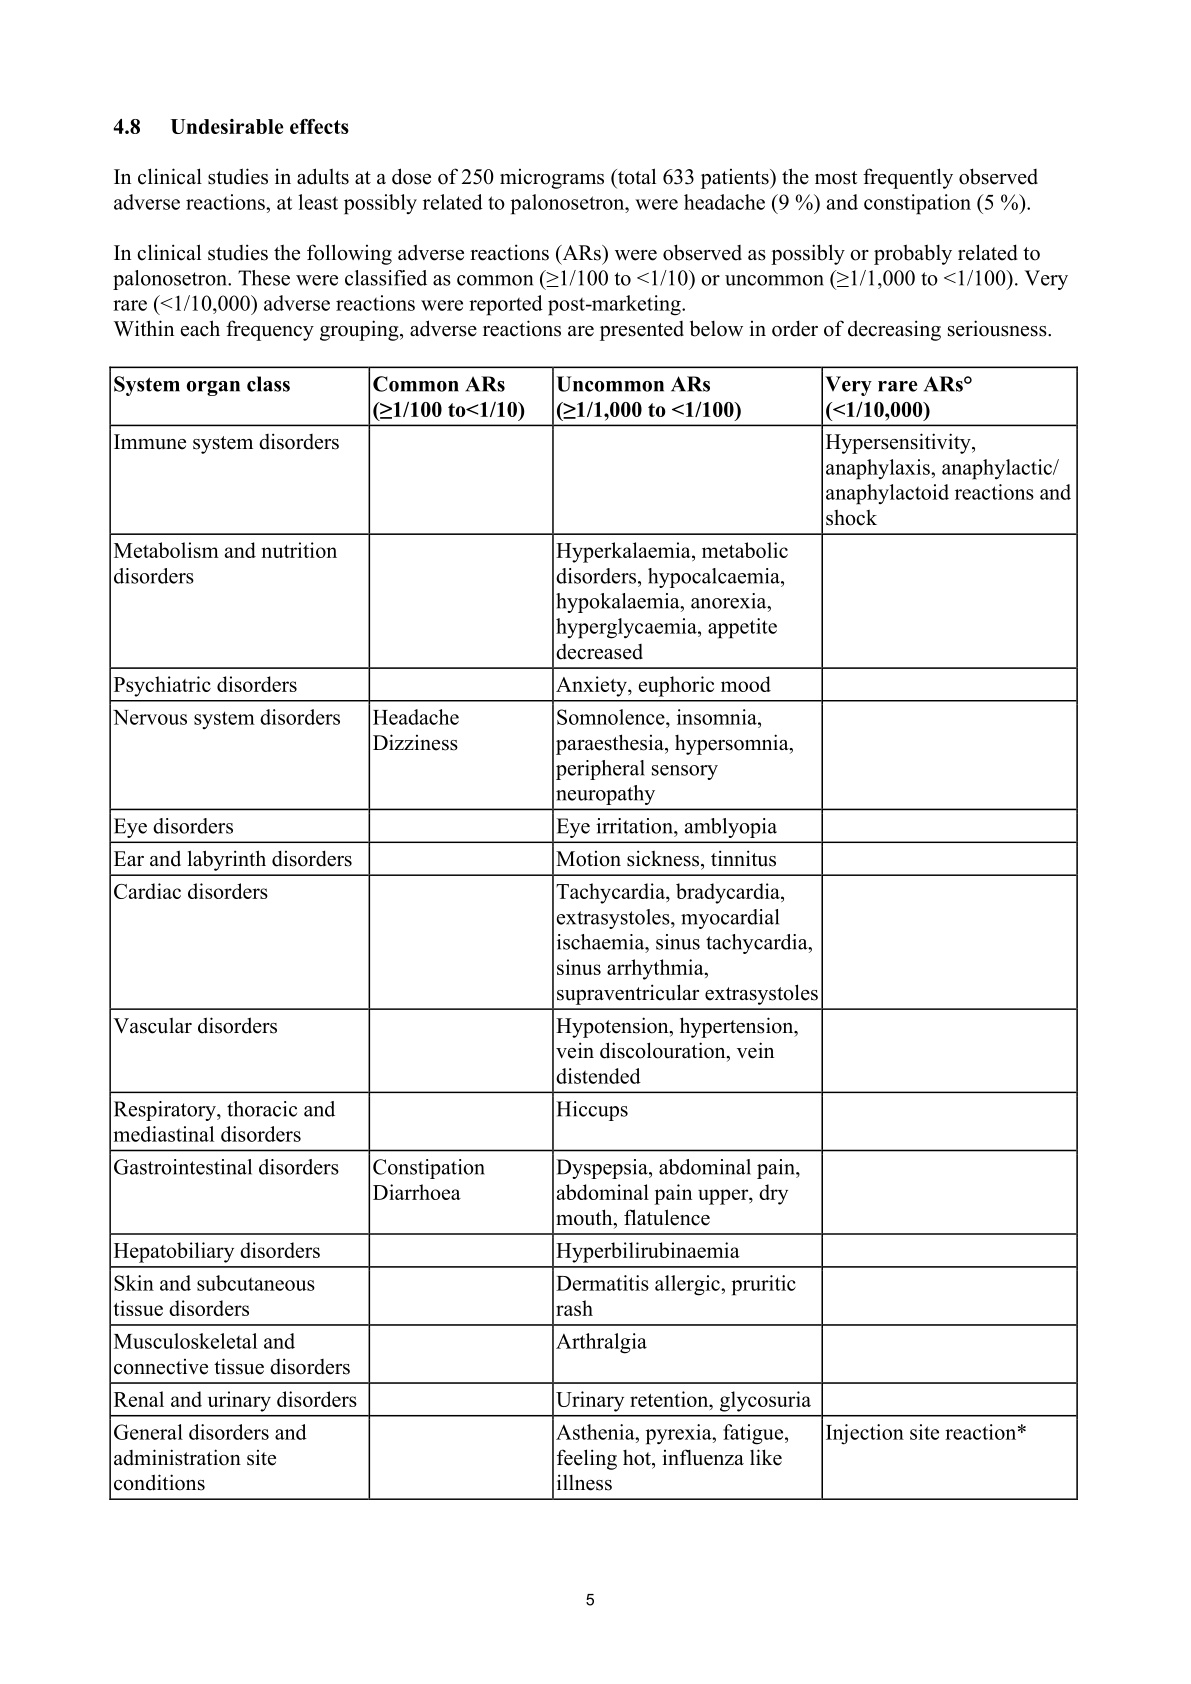full_lined: (108, 365, 1078, 1500)
